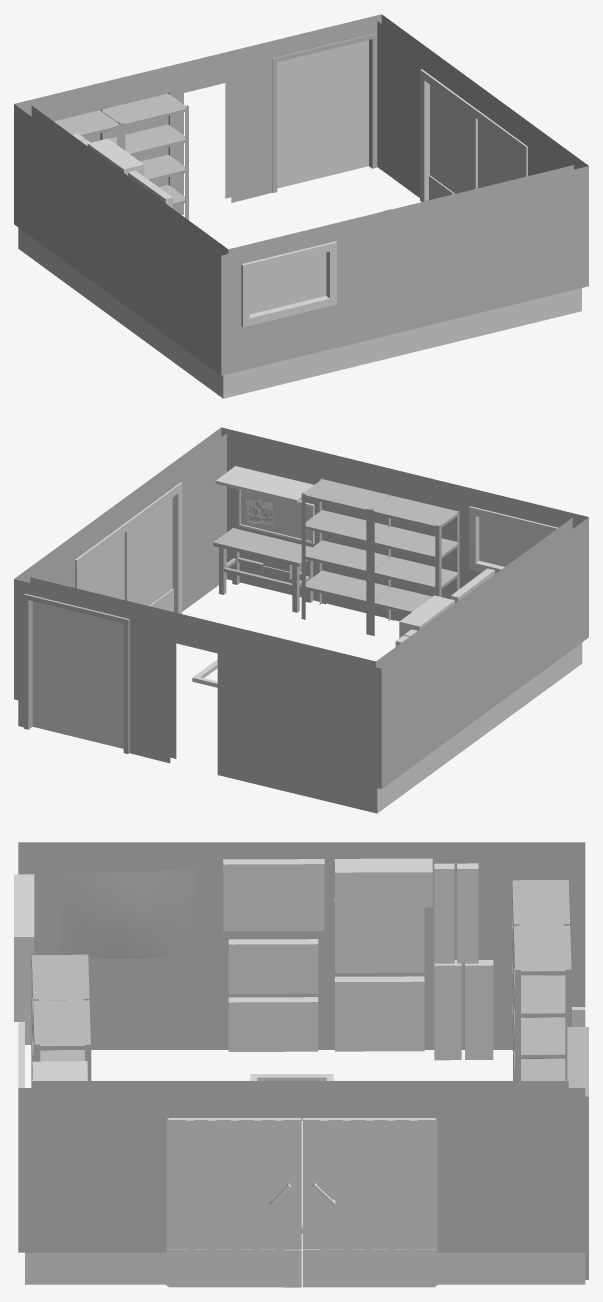
Rendered from Garage.fbx.
The picture shows the model from 3 angles, top to bottom: view 1: azimuth 30°, elevation 25°; view 2: azimuth 150°, elevation 25°; view 3: azimuth 270°, elevation 25°; orthographic projection. The views are drawn at different scales.
Visible parts, largest first — view 1: GarageExterior, GarageInterior, GarageGlass1, GarageMetal, GarageShelf3, GarageDoorRight, GarageGlass2, GarageDoorLeft, TriggerBootlid, TriggerHood; view 2: GarageExterior, GarageInterior, GarageShelf1, GarageGlass1, GarageMetal, GarageDoorLeft, GarageTable, GarageGlass2, GarageDashboard, GarageDoorRight, GarageShelf2, TriggerBootlid (+1 smaller); view 3: GarageExterior, GarageInterior, GarageDoorLeft, GarageDoorRight, GarageFlag, GarageShelf3, TriggerHood, TriggerDoor_L, GarageMetal, GarageShelf1, TriggerDoor_R, TriggerFender_L (+7 smaller).
Boxes of the visible parts, x1,y1,x2,y2 form: GarageExterior: (14,14,588,398); GarageInterior: (31,21,573,255); GarageGlass1: (277,40,368,188); GarageMetal: (241,33,527,327); GarageShelf3: (54,93,188,220); GarageDoorRight: (429,85,479,200); GarageGlass2: (249,252,326,314); GarageDoorLeft: (479,121,521,187); TriggerBootlid: (87,138,144,176); TriggerHood: (128,170,172,208); GarageExterior: (14,427,588,813); GarageInterior: (30,433,572,758); GarageShelf1: (301,478,459,635); GarageGlass1: (32,601,123,748); GarageMetal: (24,482,558,753); GarageDoorLeft: (123,498,173,611); GarageTable: (213,528,313,612); GarageGlass2: (479,517,549,566); GarageDashboard: (238,489,314,544); GarageDoorRight: (81,534,123,599); GarageShelf2: (215,466,313,503); TriggerBootlid: (399,595,454,637); GarageExterior: (18,842,585,1284); GarageInterior: (31,850,568,1087); GarageDoorLeft: (168,1118,301,1287); GarageDoorRight: (302,1118,435,1287); GarageFlag: (59,867,195,958); GarageShelf3: (512,878,571,1080); TriggerHood: (223,859,324,931); TriggerDoor_L: (334,976,424,1051); GarageMetal: (14,874,588,1285); GarageShelf1: (31,953,91,1080); TriggerDoor_R: (334,898,424,973); TriggerFender_L: (228,997,318,1051).
Bounding box in the file's own units: 712 × 273 × 698.
